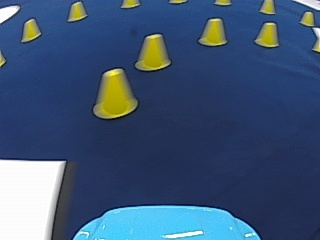cone: (94, 67, 138, 118), (135, 32, 170, 71), (198, 17, 227, 46), (254, 21, 279, 47), (20, 17, 40, 42), (67, 1, 86, 21), (300, 11, 314, 26), (259, 0, 274, 14), (122, 0, 137, 8)
